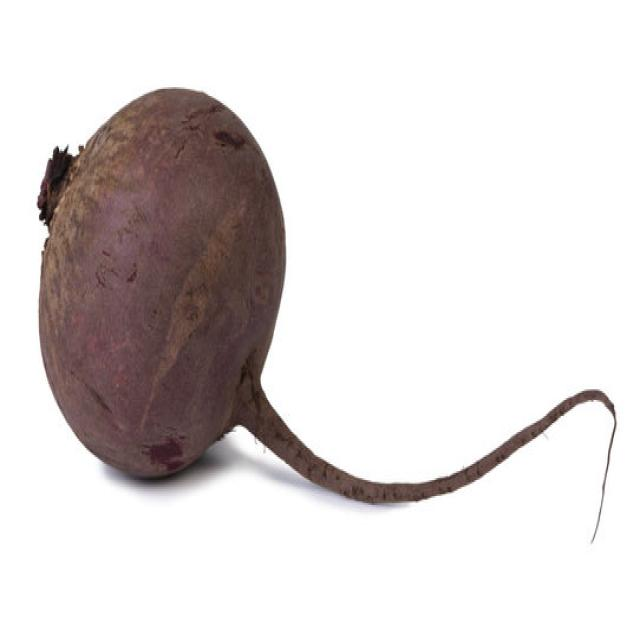Beetroot: (36, 84, 616, 542)
